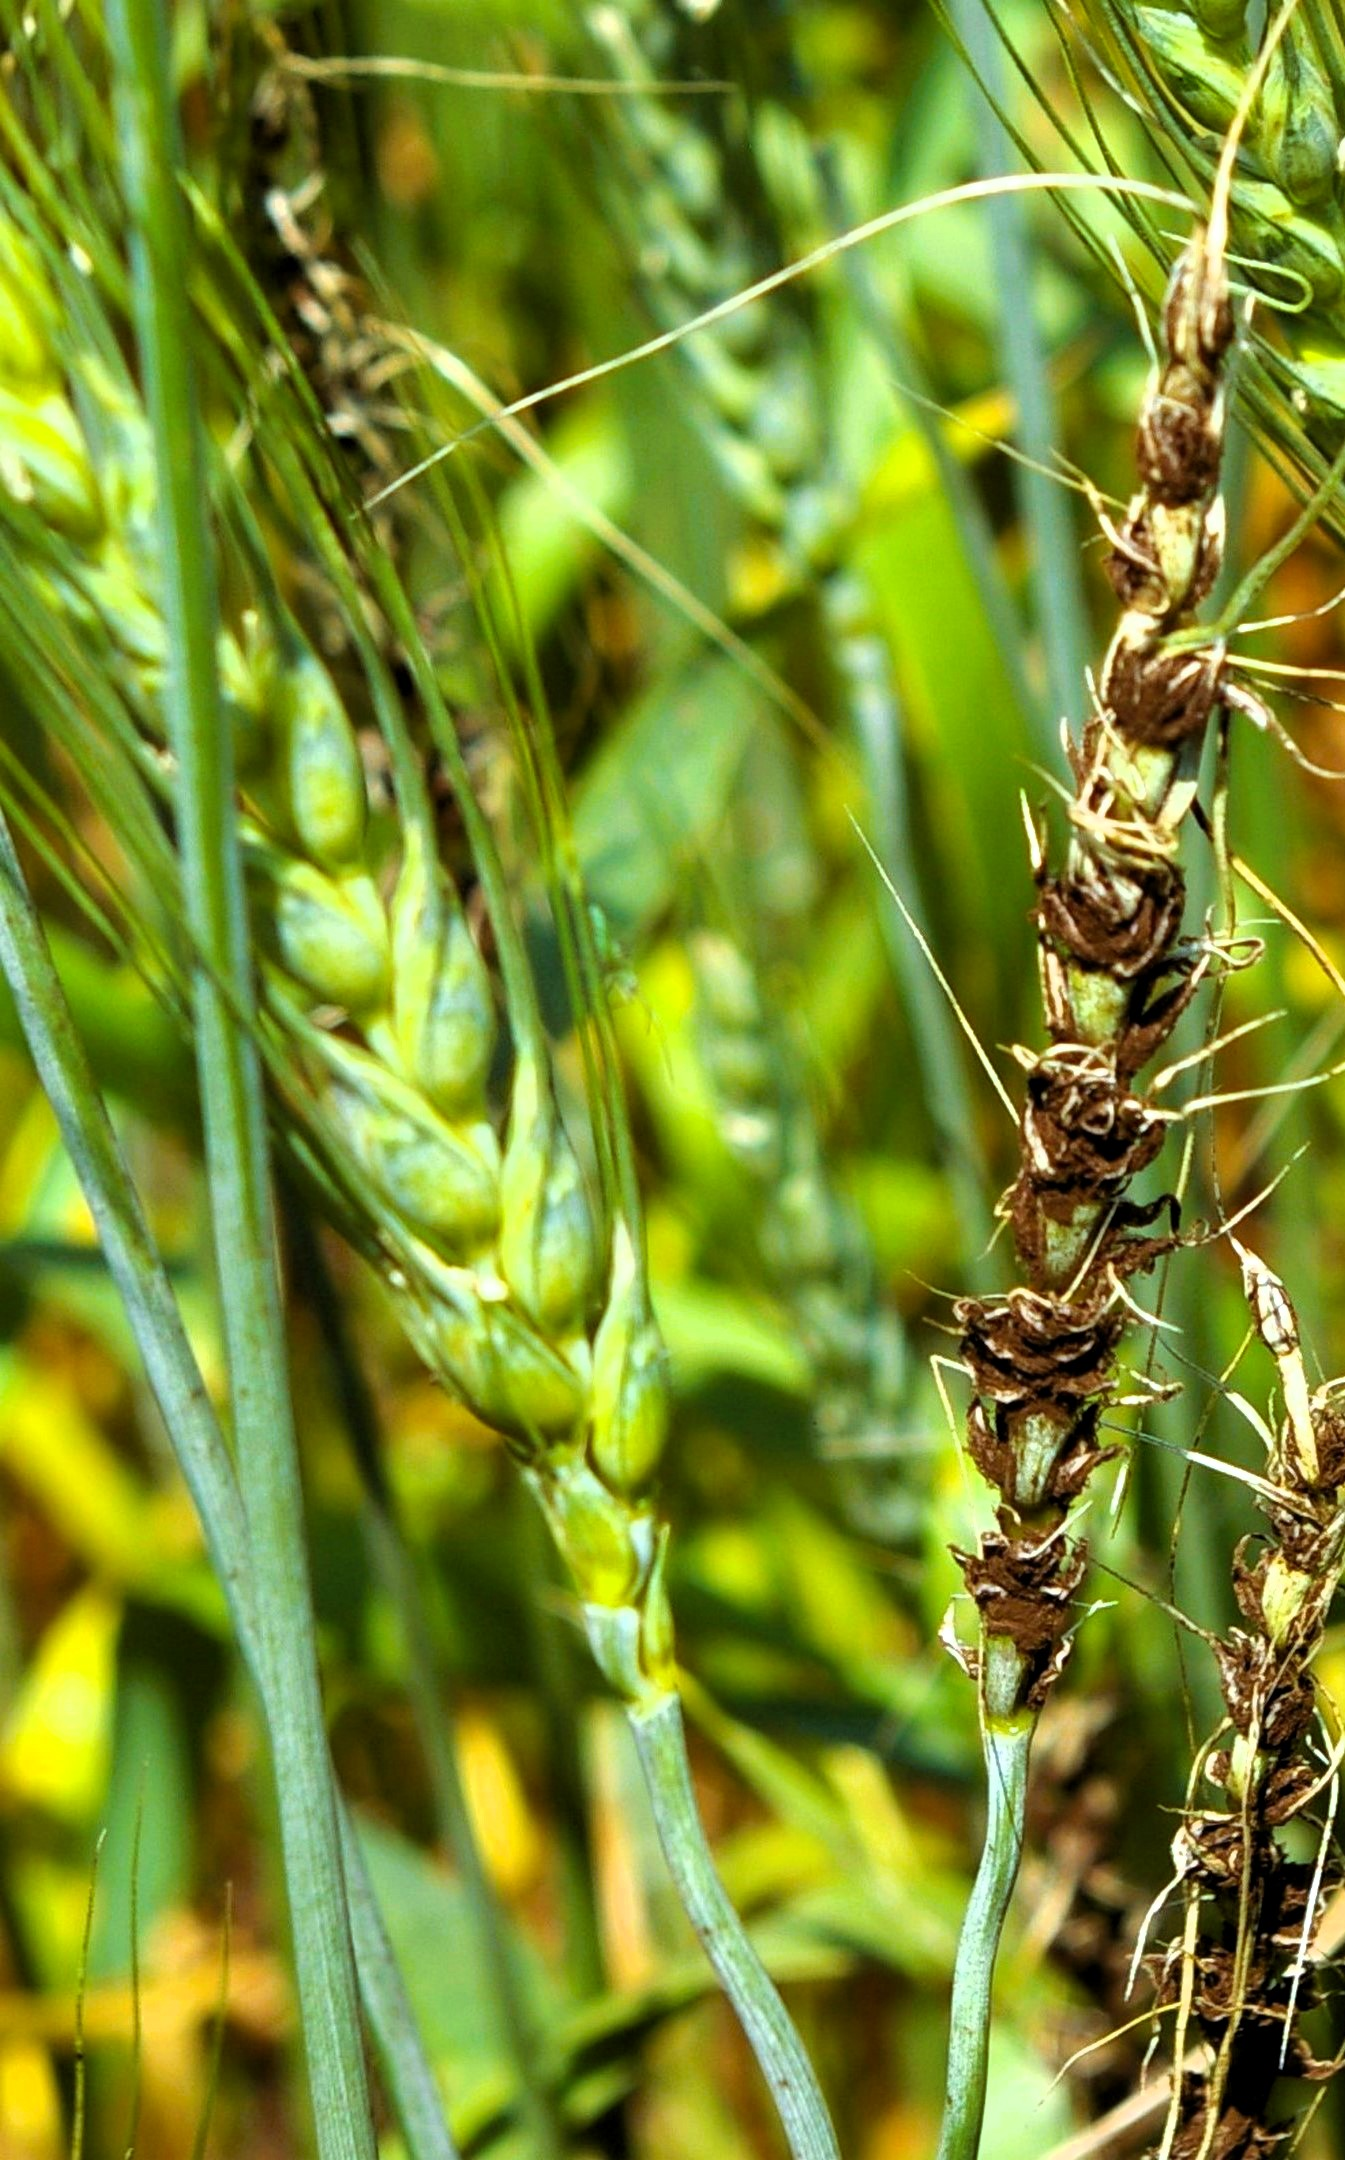Wheat Loose Smut: (937, 254, 1345, 1511)
